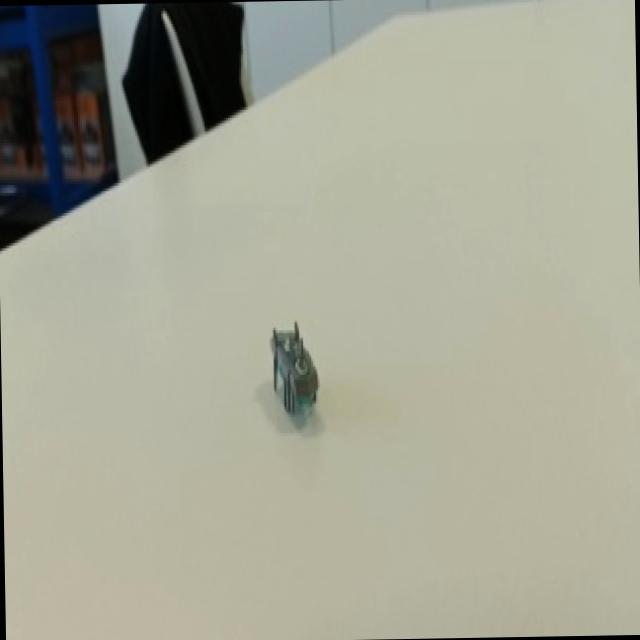5_NanoBug_GrisClaro: (235, 305, 342, 451)
